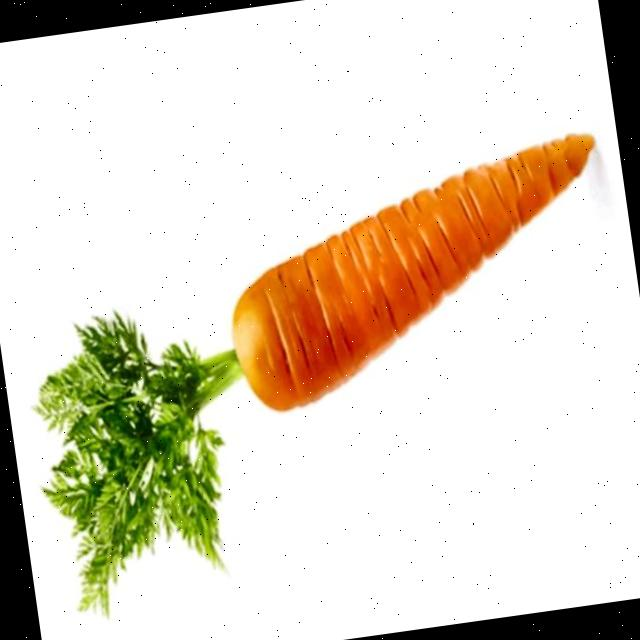carrot: (36, 133, 594, 611)
